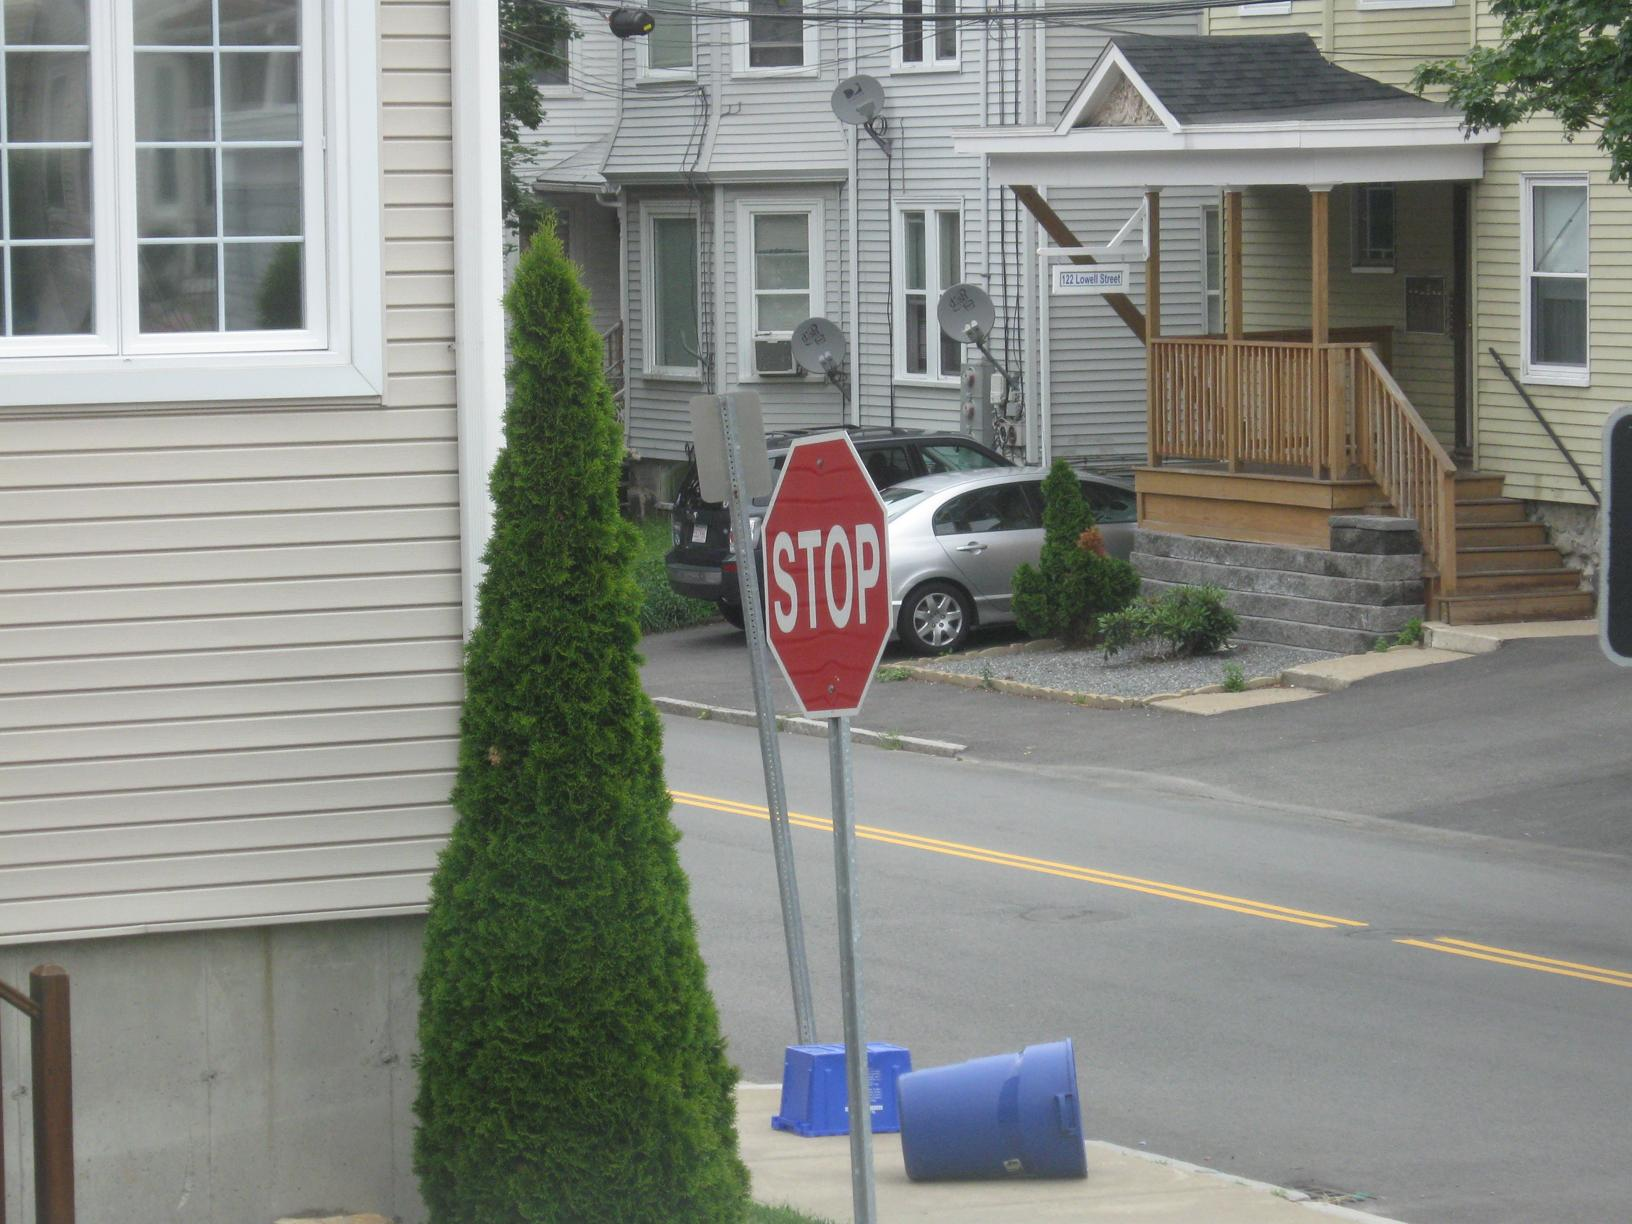stop: (756, 432, 905, 710)
